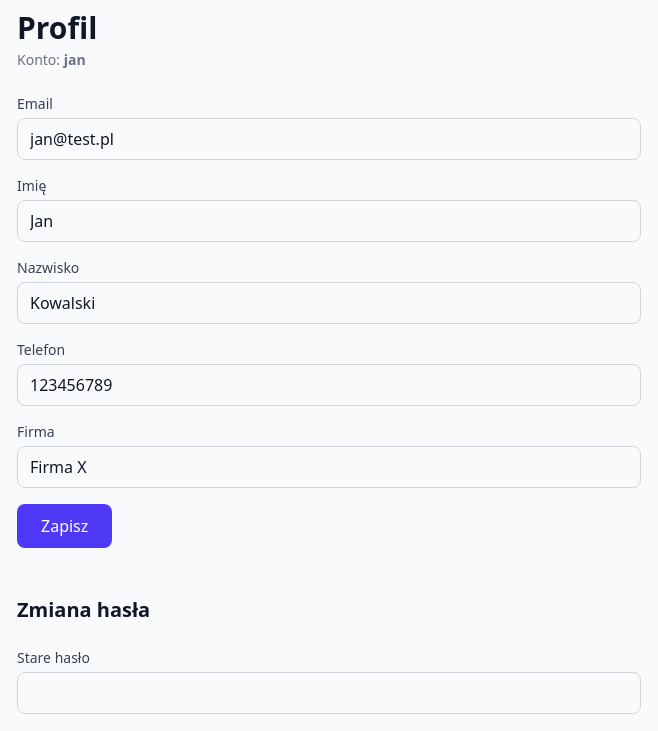
ProfilePage — profile form › shows success message after saving profile
Click the button "Zapisz" at (65, 526), box [17, 504, 112, 548]
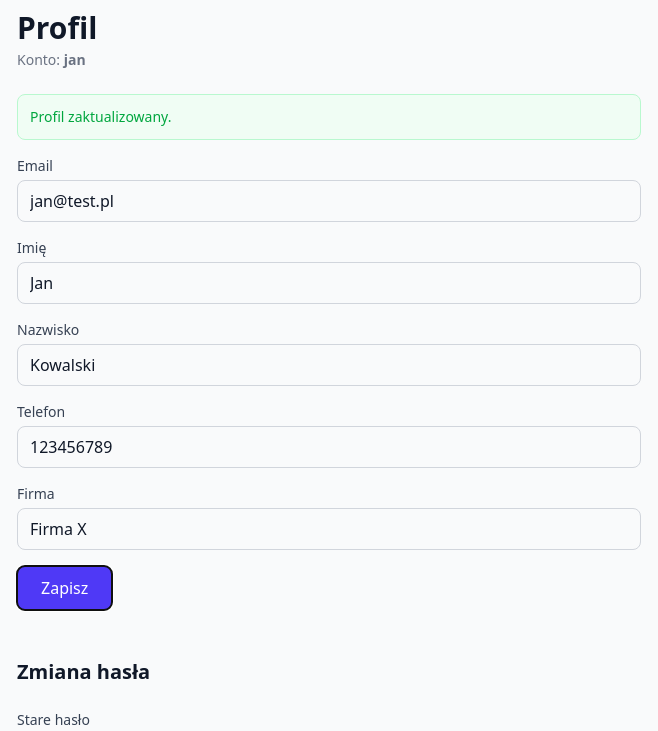
Now the text "Profil zaktualizowany." is shown, box [17, 94, 641, 140]
